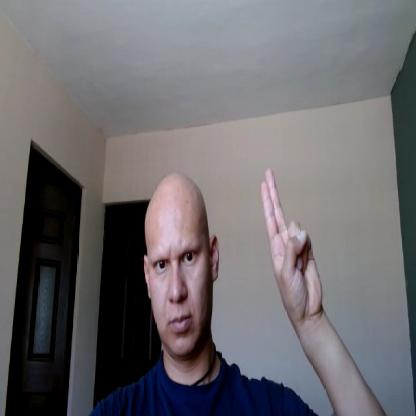U: (259, 165, 322, 313)
